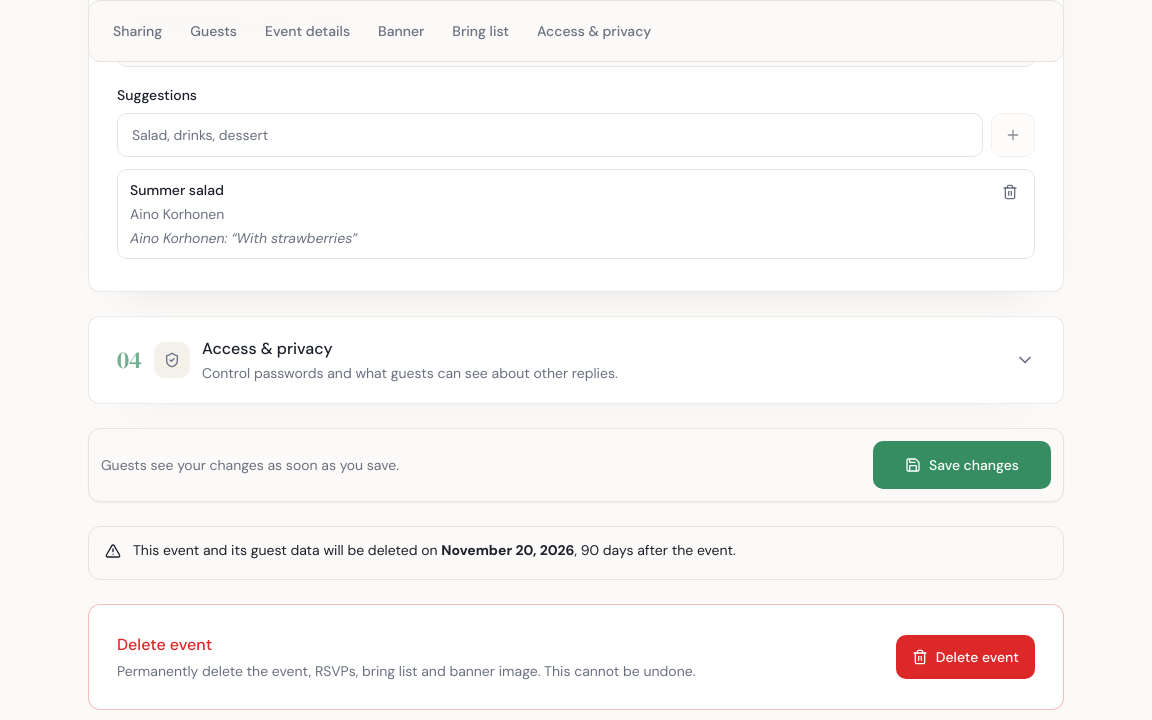
AdminPage › won't save a switched-on password that was left blank
The image size is (1152, 720).
(page scrolled)
Click the button "Access & privacy" at (172, 360), box [89,317,1063,403]
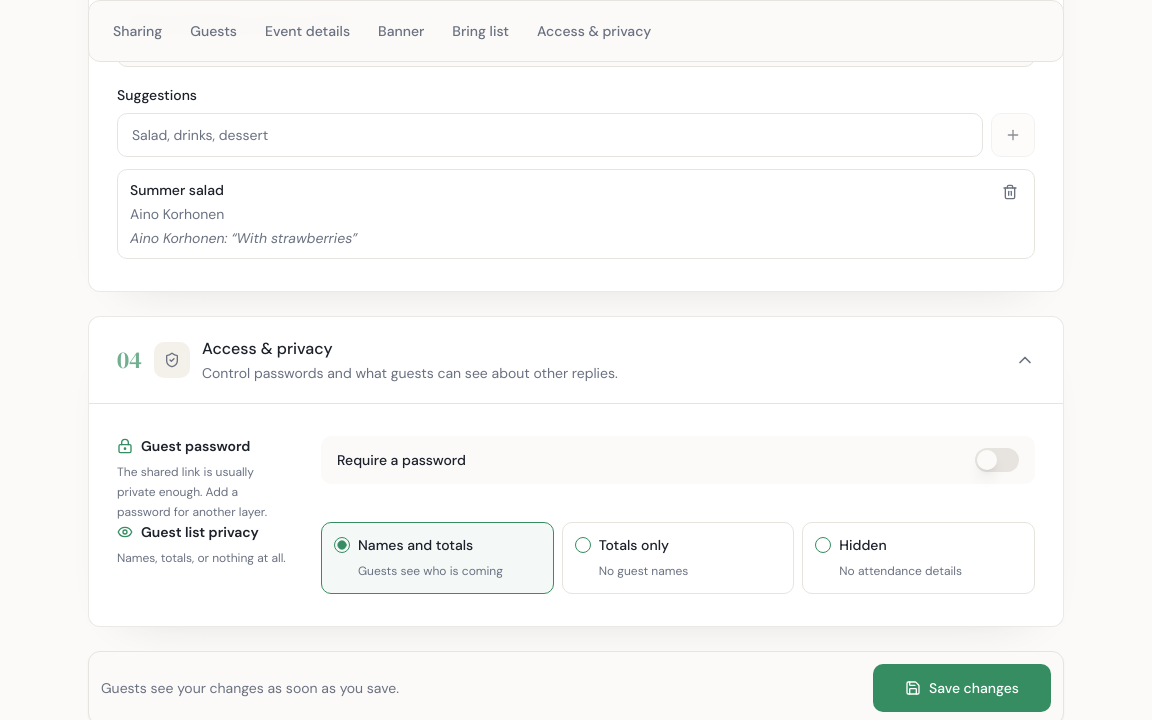
Click the switch named "Require a password" at (997, 460), box [975,448,1019,472]
(page scrolled)
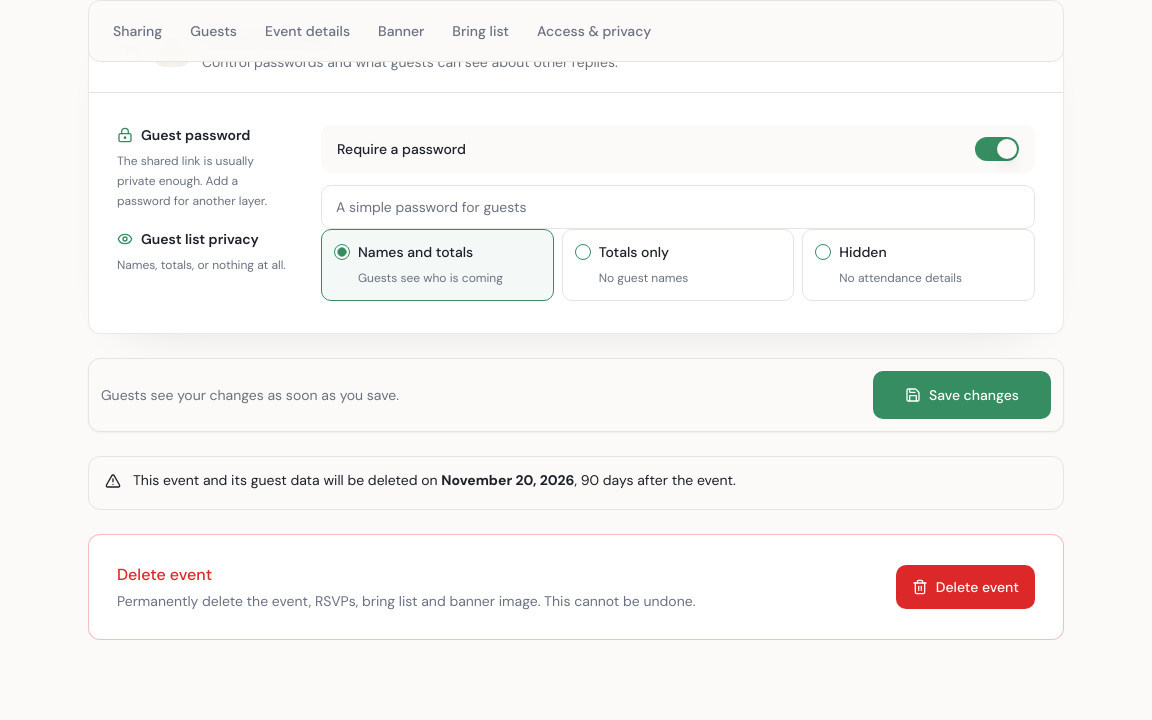
Click the button "Save changes" at (962, 395), box [873,371,1051,419]
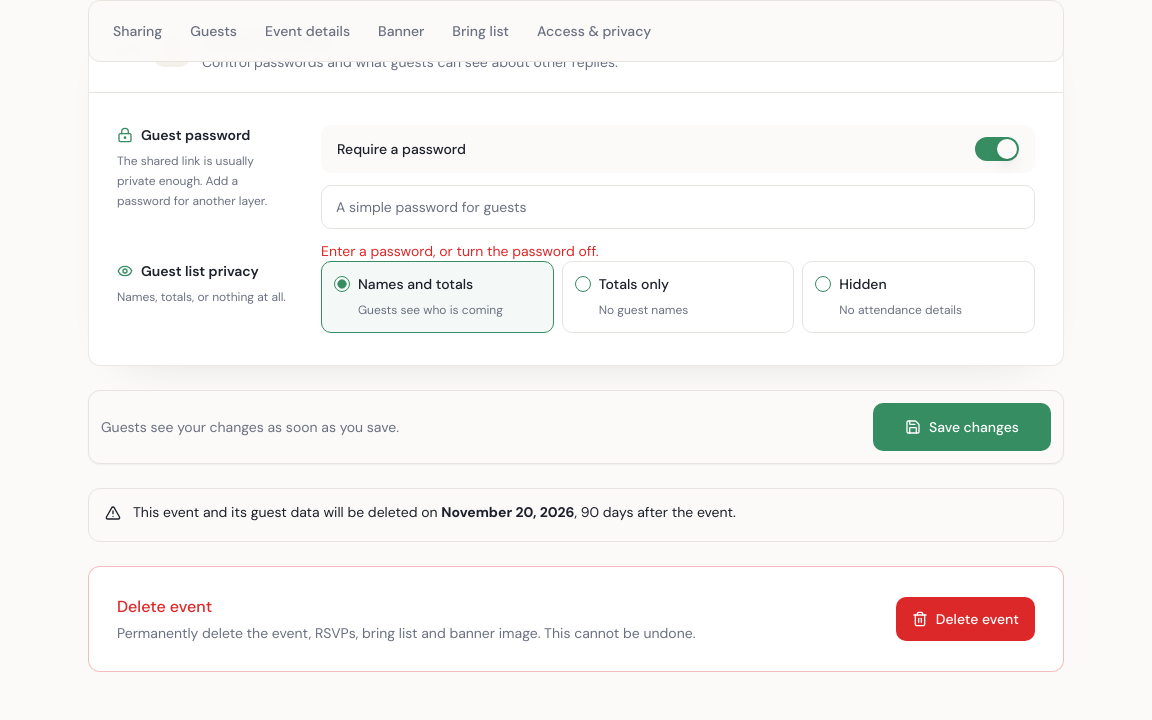
Now the text "Enter a password, or turn the password off." is shown, box [321,242,599,260]
